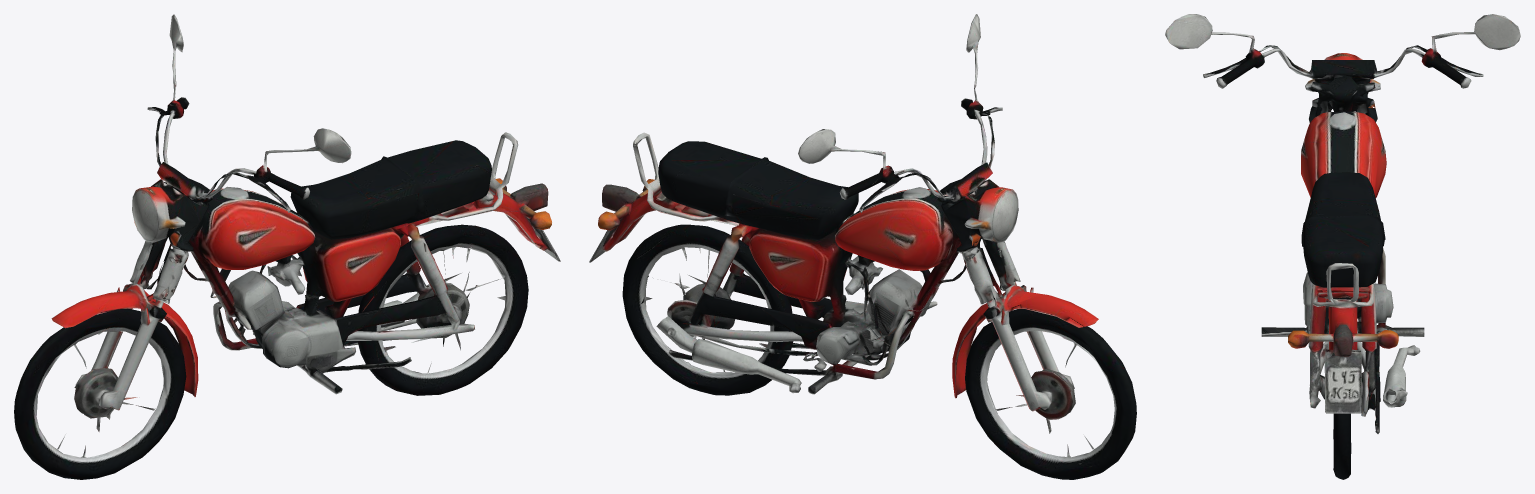
File: okada.glb
3 renders of one model, left to right at view 1: azimuth 30°, elevation 25°; view 2: azimuth 150°, elevation 25°; view 3: azimuth 270°, elevation 25°, orthographic.
Bounding box in the file's own units: 1.88 × 1.22 × 1.08.
1 material, 1 textured.
